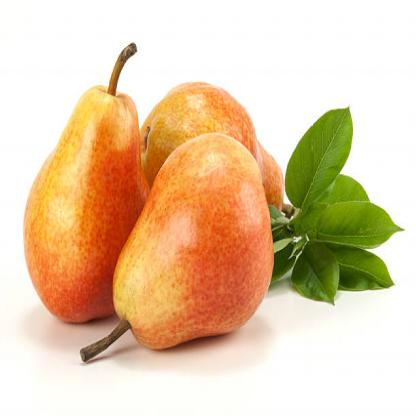Paer: (34, 57, 151, 324), (116, 160, 297, 329)
